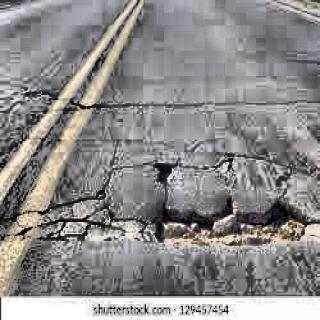alligator-crack: (0, 192, 137, 244)
crack: (14, 84, 320, 117), (184, 149, 320, 181), (93, 133, 137, 198)
pothole: (147, 196, 308, 248), (146, 159, 180, 187)
